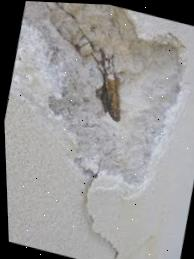exposed_rebar: (100, 68, 119, 121)
spalling: (15, 1, 186, 188)
